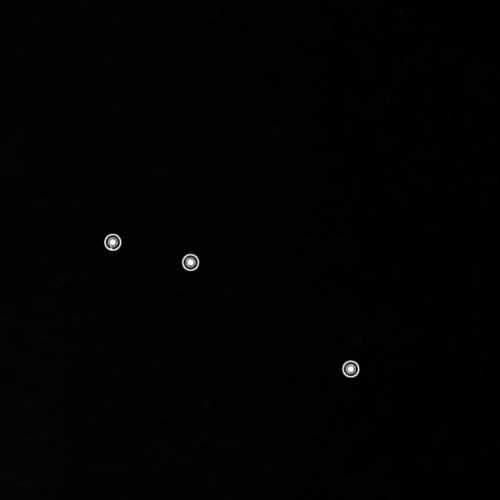vulpecula: (101, 229, 366, 384)
